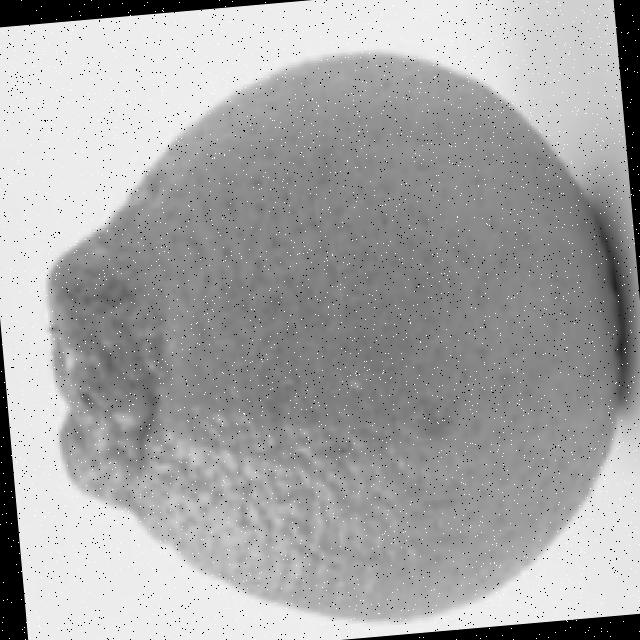orange: (18, 25, 640, 640)
